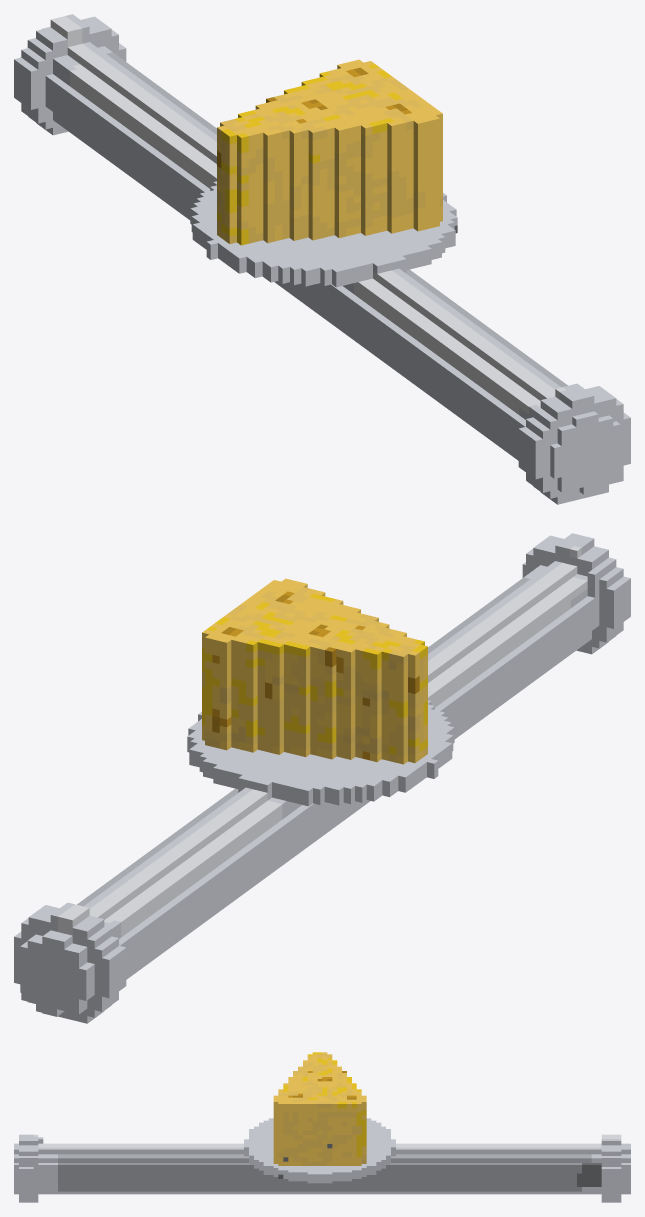
File: trap_m.FBX
3 renders of one model, top to bottom at view 1: azimuth 30°, elevation 25°; view 2: azimuth 150°, elevation 25°; view 3: azimuth 270°, elevation 25°, orthographic. The views are drawn at different scales.
Parts seen in each view (by area): view 1: default014; view 2: default014; view 3: default014.
Part boxes in pixels (x1=…): default014: x1=14, y1=14, x2=630, y2=504; default014: x1=14, y1=533, x2=630, y2=1023; default014: x1=14, y1=1052, x2=630, y2=1202.
Size of the model in its own units: 393 by 330 by 1598.
